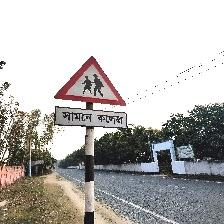College-in-front: (51, 41, 131, 138)
